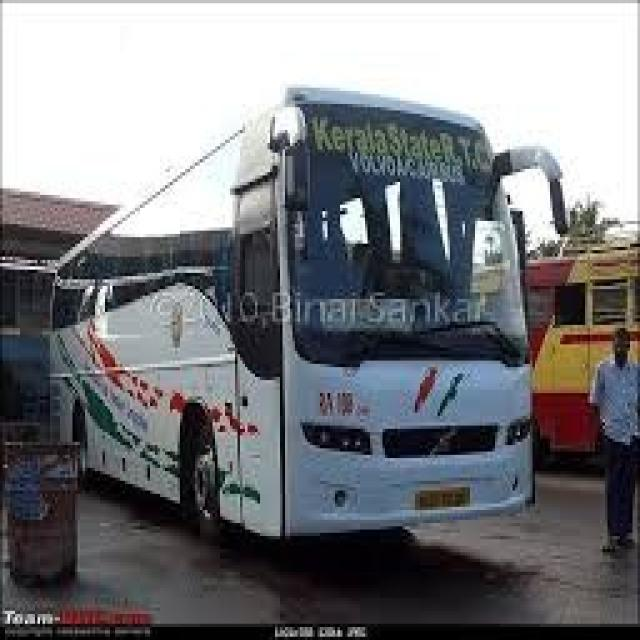bus: (48, 35, 574, 558)
